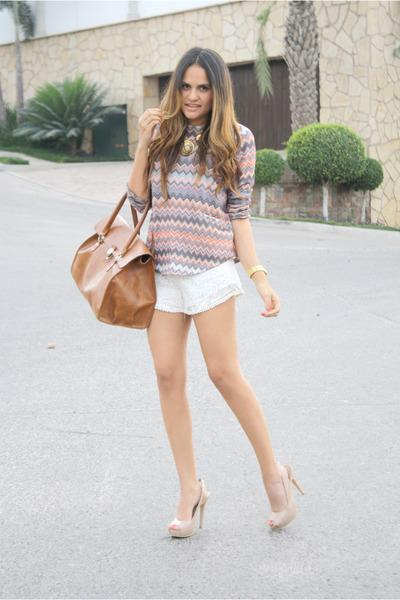bag: (71, 210, 162, 329)
shirt: (143, 132, 256, 270)
shoe: (166, 475, 303, 545)
shorts: (155, 244, 239, 313)
